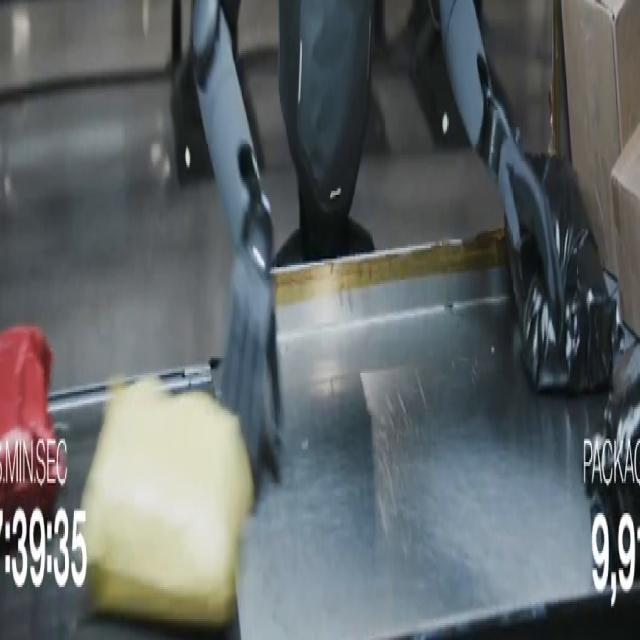package: (82, 380, 253, 627), (509, 155, 621, 394), (562, 0, 639, 275), (0, 327, 66, 521), (584, 346, 639, 570), (612, 126, 639, 334)
